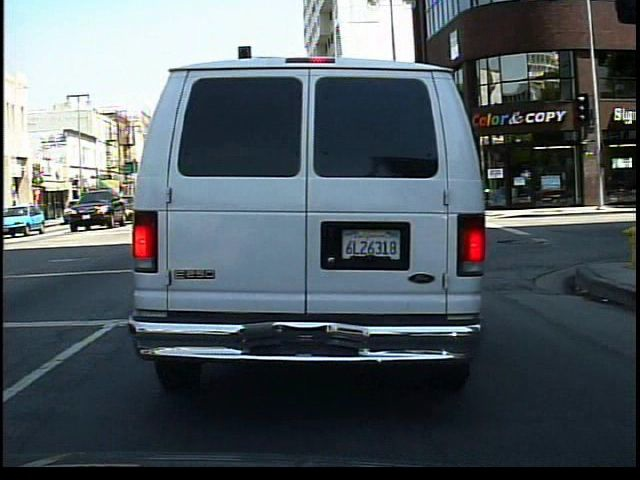person: (5, 196, 23, 229)
